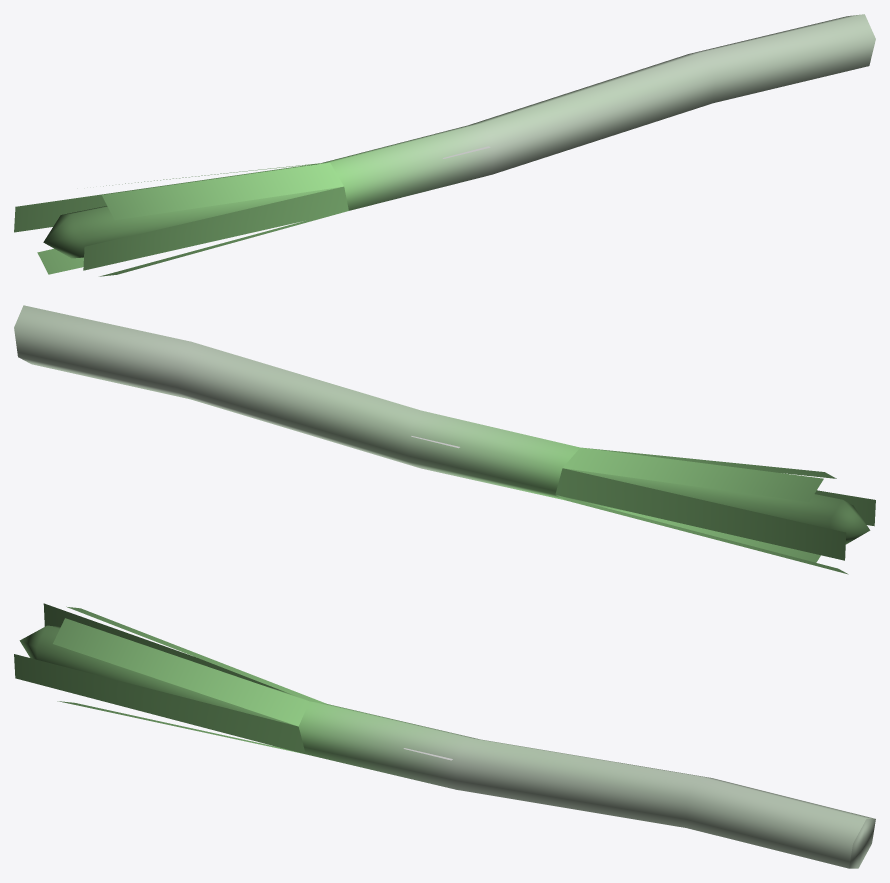
3 views of the same model, one above another, from view 1: azimuth 30°, elevation 25°; view 2: azimuth 150°, elevation 25°; view 3: azimuth 330°, elevation 25° (orthographic).
Parts seen in each view (by area): view 1: base.002; view 2: base.002; view 3: base.002.
Boxes of the visible parts, box(x1,y1,x2,y2) form: base.002: box(14, 14, 875, 276); base.002: box(14, 305, 875, 574); base.002: box(14, 603, 875, 868).
Bounding box in the file's own units: 0.1752 × 0.0181 × 0.0185.
